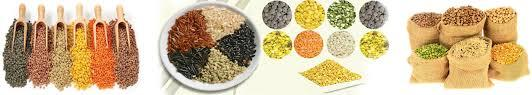Organic: (7, 5, 532, 95)
